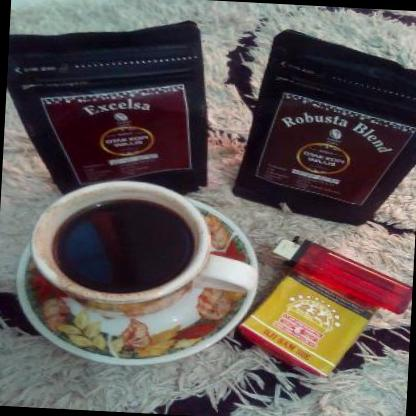objects: (238, 268, 380, 380)
